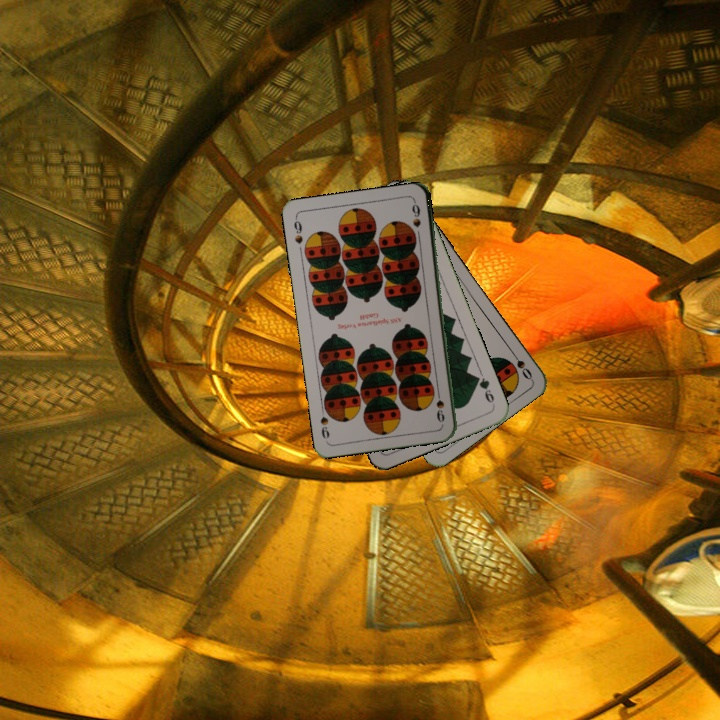G9: (471, 372, 498, 408)
S9: (433, 385, 447, 425), (290, 214, 305, 246)
SO: (506, 346, 535, 382)
